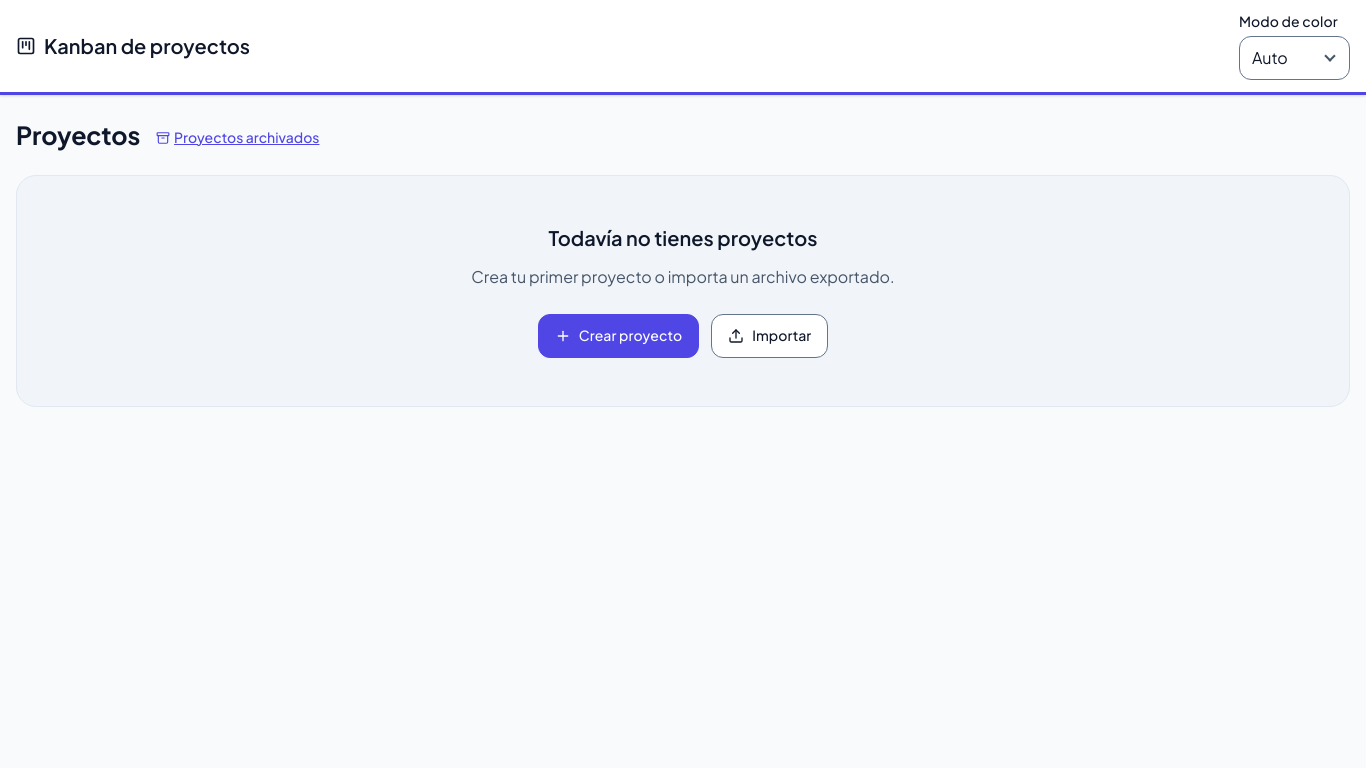
Scenario: App: "Importar" del estado vacío (AC-034) › error de guardado (AC-035) › sin fallos de guardado no hay aviso
Click the button "Crear proyecto" at (618, 336), box top-left (538, 314), bottom-right (699, 358)
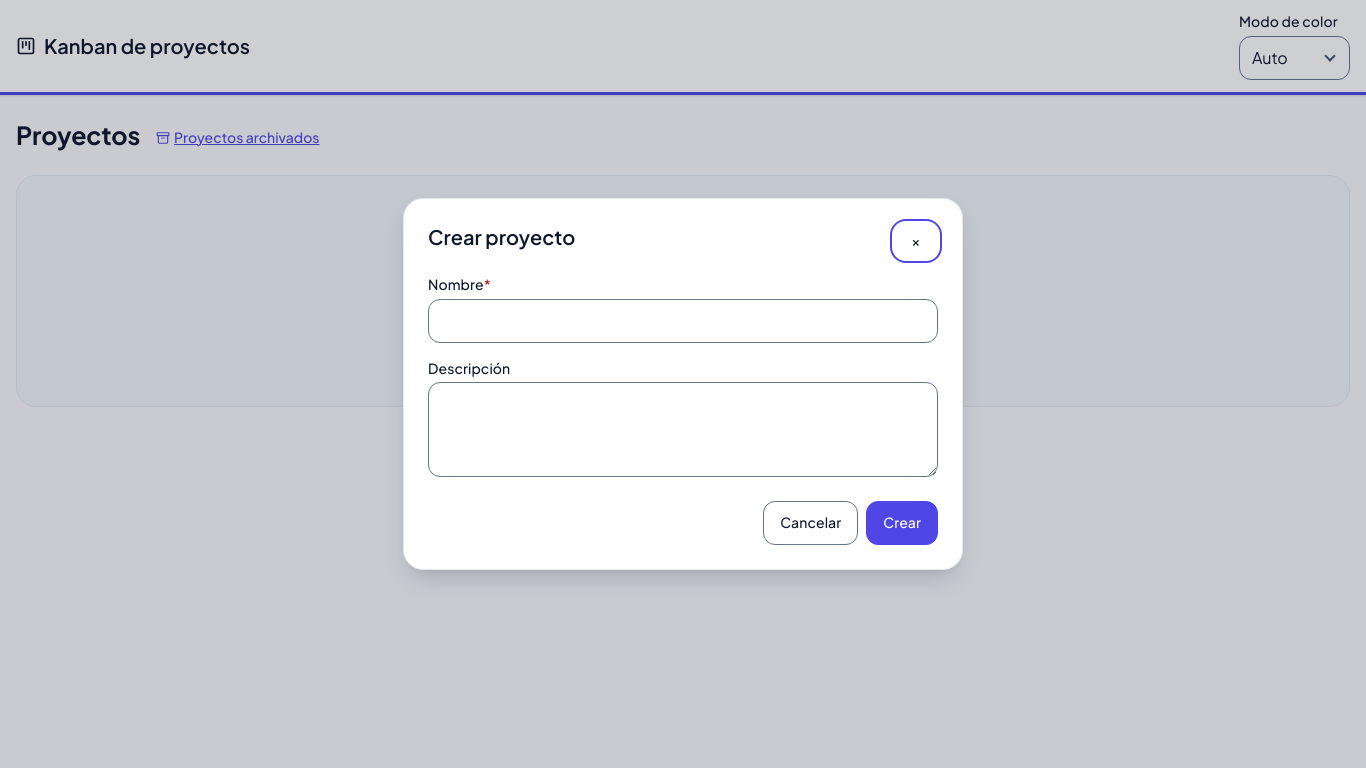
Type "Mi app" into the field labelled "Nombre*" at (683, 321), box top-left (428, 299), bottom-right (938, 343)
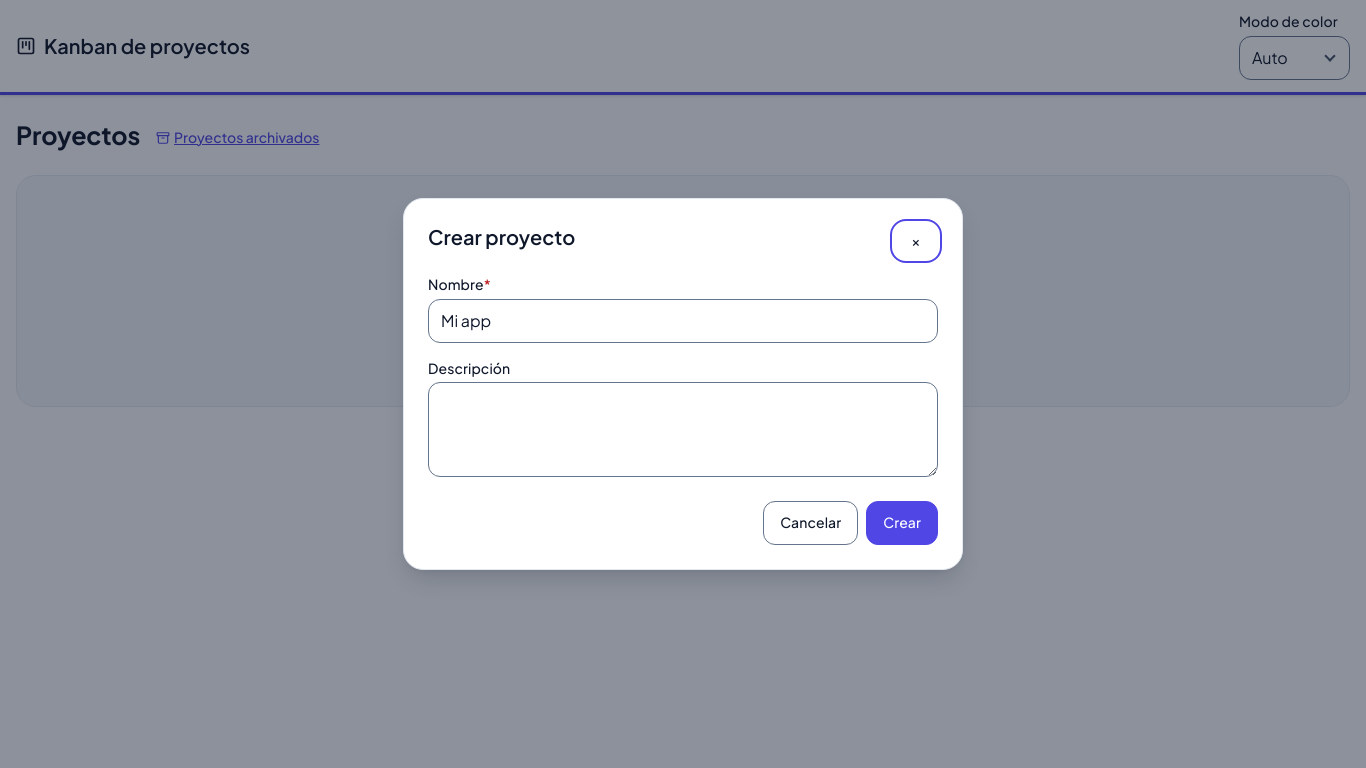
Click the button "Crear" at (902, 523), box top-left (866, 501), bottom-right (938, 545)
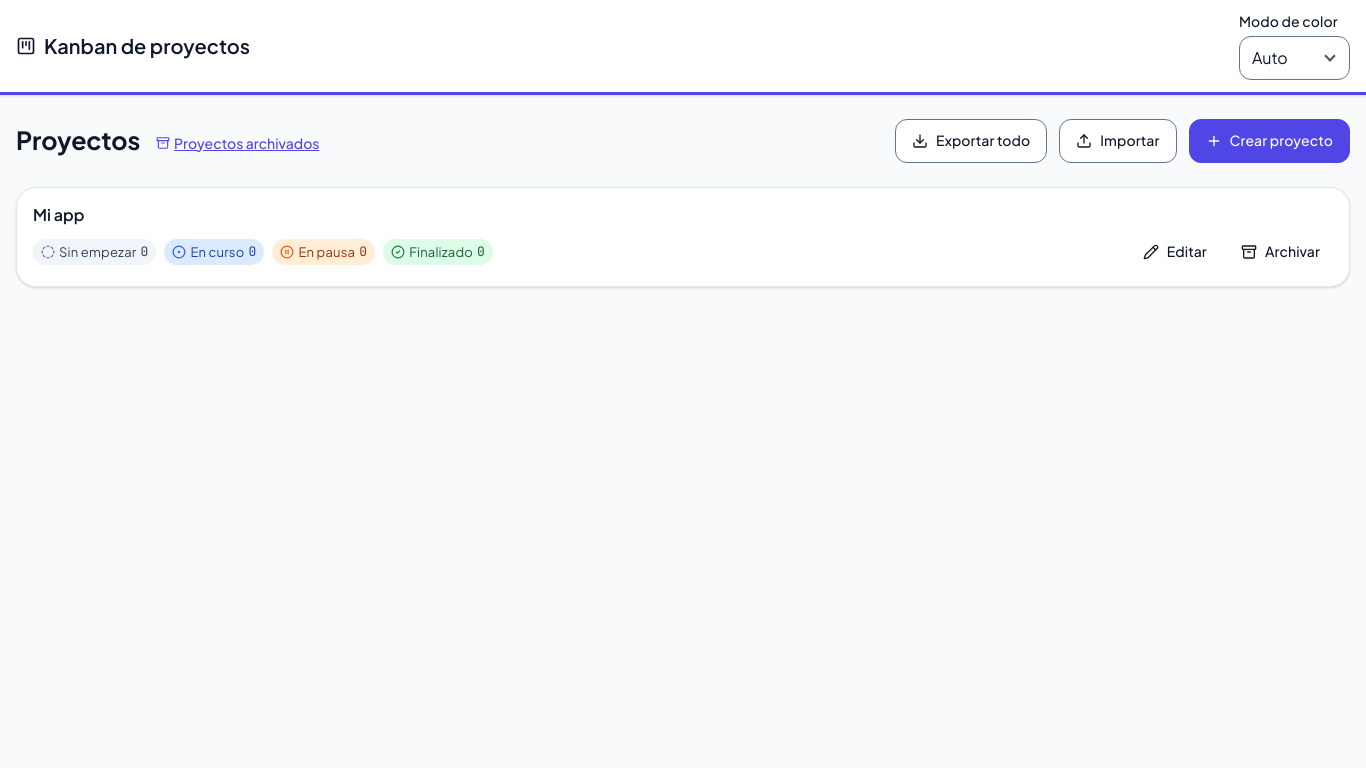
Check: the button "Mi app" is shown, box top-left (33, 204), bottom-right (84, 226)
